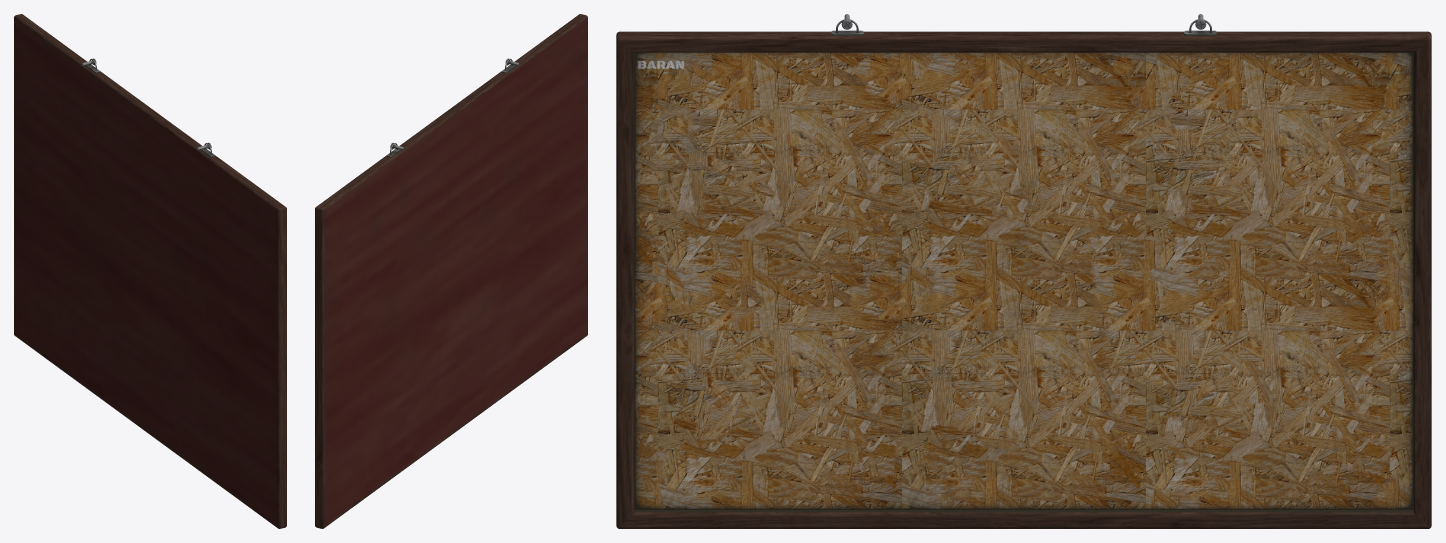
File: doska dla zametok.fbx
3 renders of one model, left to right at view 1: azimuth 30°, elevation 25°; view 2: azimuth 150°, elevation 25°; view 3: azimuth 270°, elevation 25°, orthographic. The views are drawn at different scales.
Parts seen in each view (by area): view 1: Symmetry_2; view 2: Symmetry_2; view 3: Symmetry_2.
Boxes of the visible parts, x1,y1,x2,y2 form: Symmetry_2: (14,14,286,528); Symmetry_2: (315,14,587,528); Symmetry_2: (616,14,1431,528).
Bounding box in the file's own units: 0.0685 × 1.49 × 2.16.
Materials: 1 (1 with a texture image).
